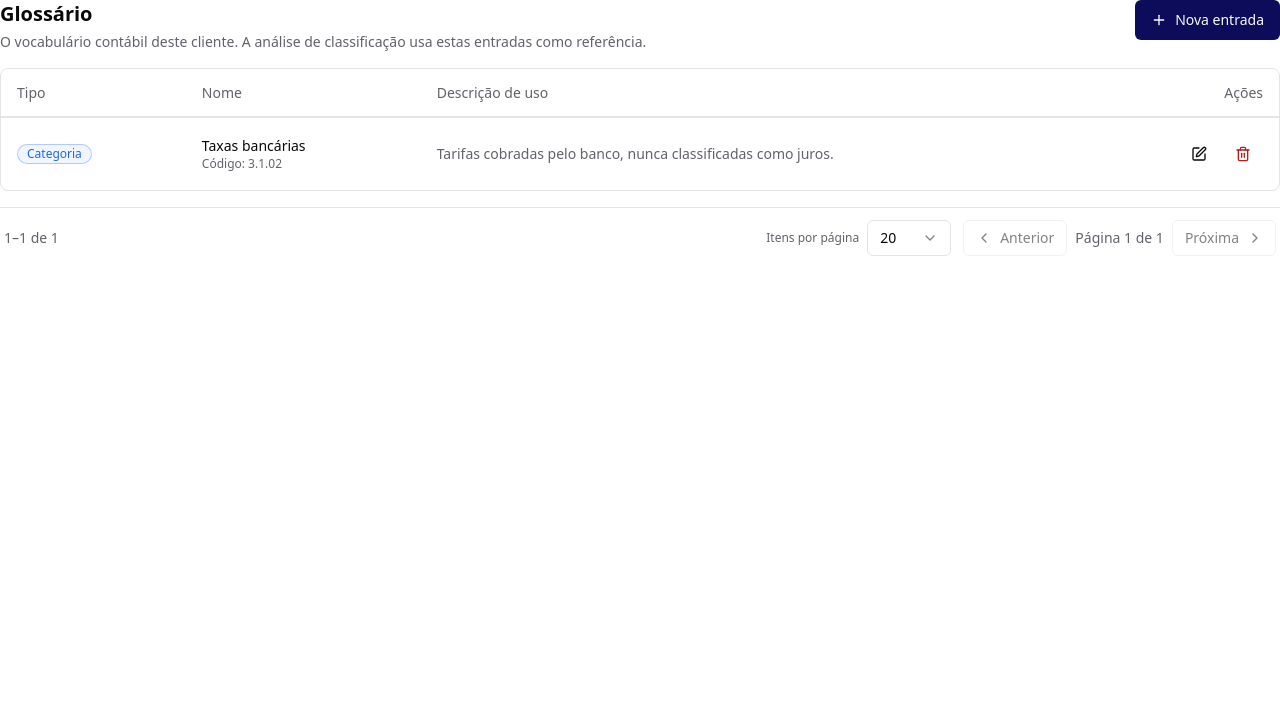
GlossaryScreen — gaveta de criação/edição › Cancelar fica à ESQUERDA da ação primária no rodapé da gaveta
Click the button "Nova entrada" at (1208, 20), box [1135,0,1279,40]
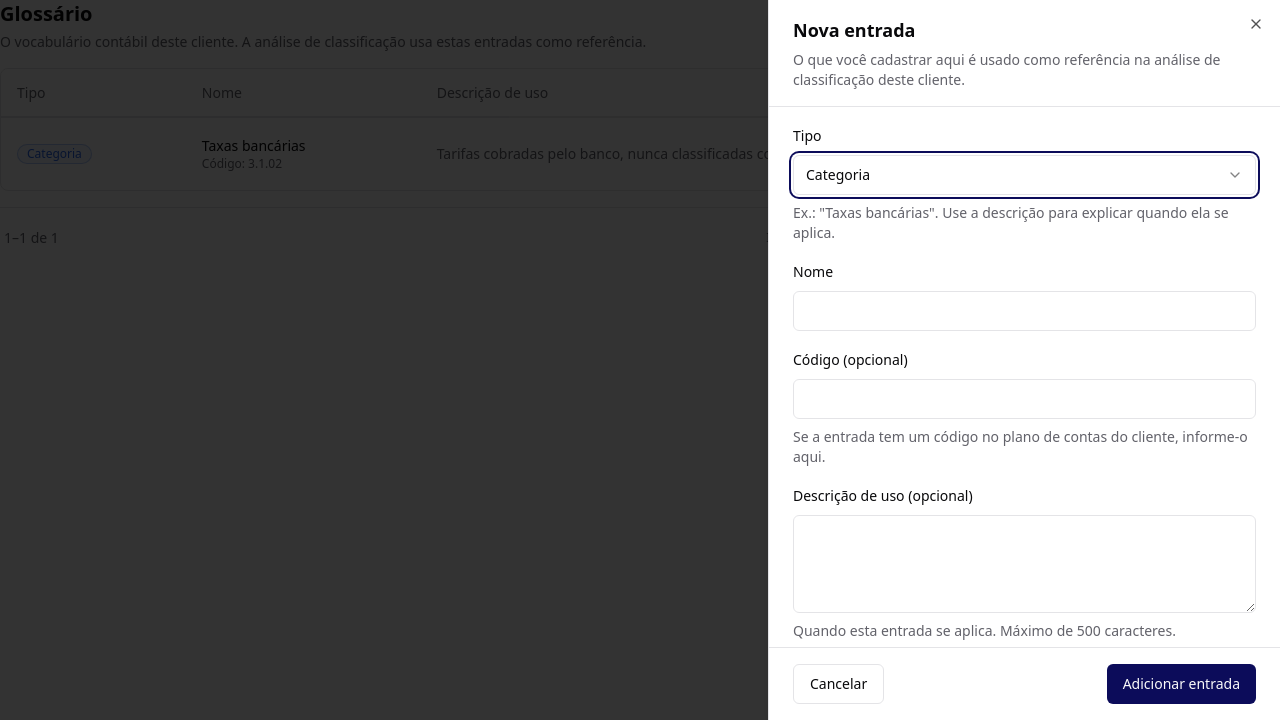
Expected: the dialog is shown, [768,0,1279,719]
